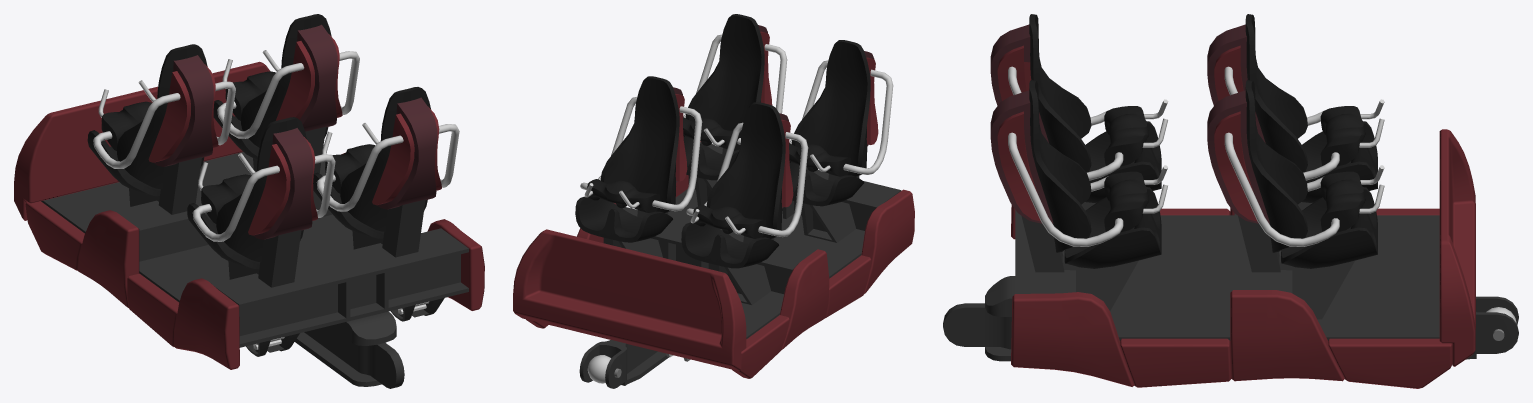
File: car_mid.glb
The picture shows the model from 3 angles, left to right: view 1: azimuth 30°, elevation 25°; view 2: azimuth 150°, elevation 25°; view 3: azimuth 270°, elevation 25°; orthographic projection. The views are drawn at different scales.
Visible parts, largest first — view 1: Body1; view 2: Body1; view 3: Body1.
Part boxes in pixels (x1,y1,x2,y2): Body1: (14,14,484,388); Body1: (513,14,914,388); Body1: (943,14,1518,388).
Bounding box in the file's own units: 2.28 × 2.22 × 3.99.
1 material, 1 textured.
